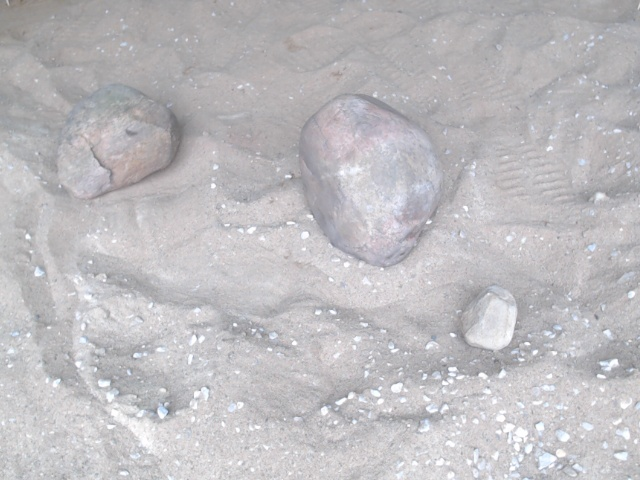rock: (292, 89, 449, 273), (53, 78, 185, 206), (455, 281, 521, 354)
